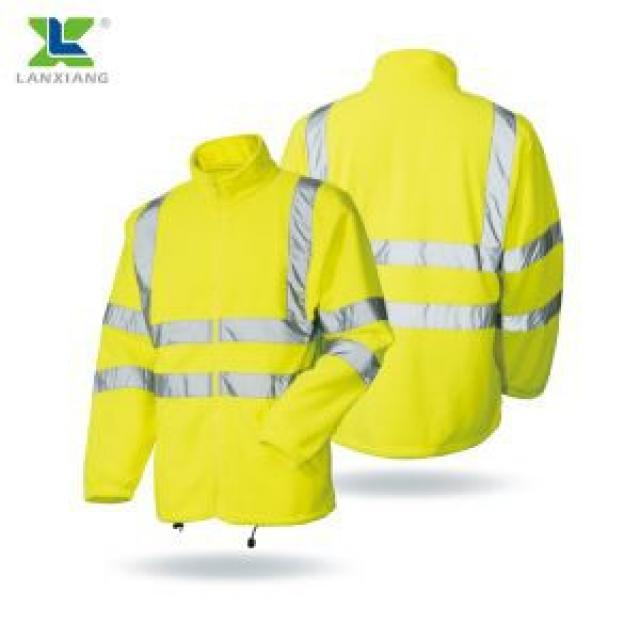Reflective-Jacket: (284, 64, 574, 463), (77, 160, 390, 525)
